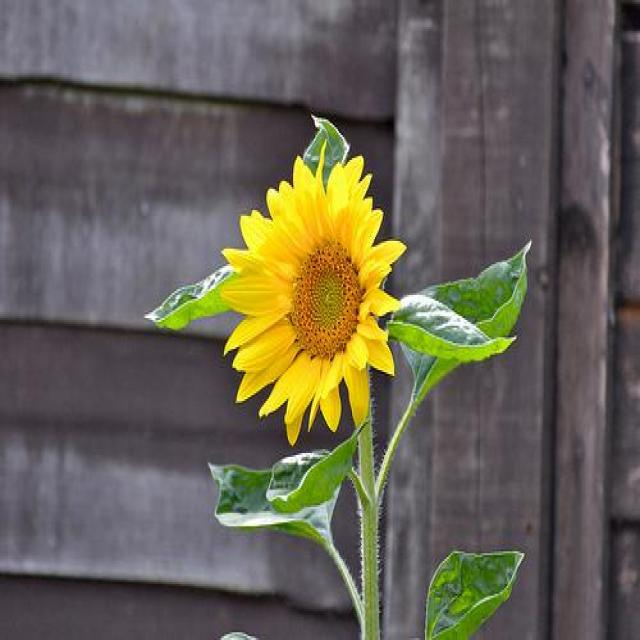sunflower: (229, 150, 401, 432)
